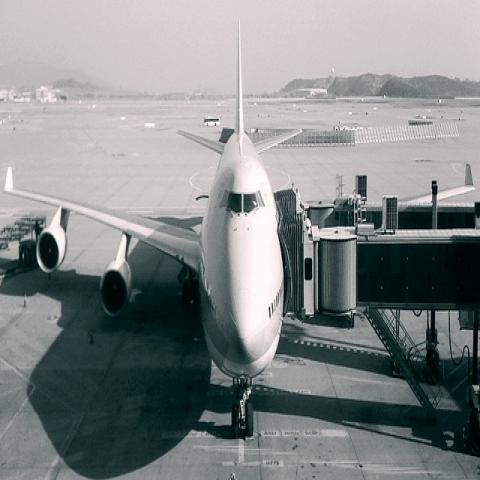bus: (204, 118, 220, 126)
